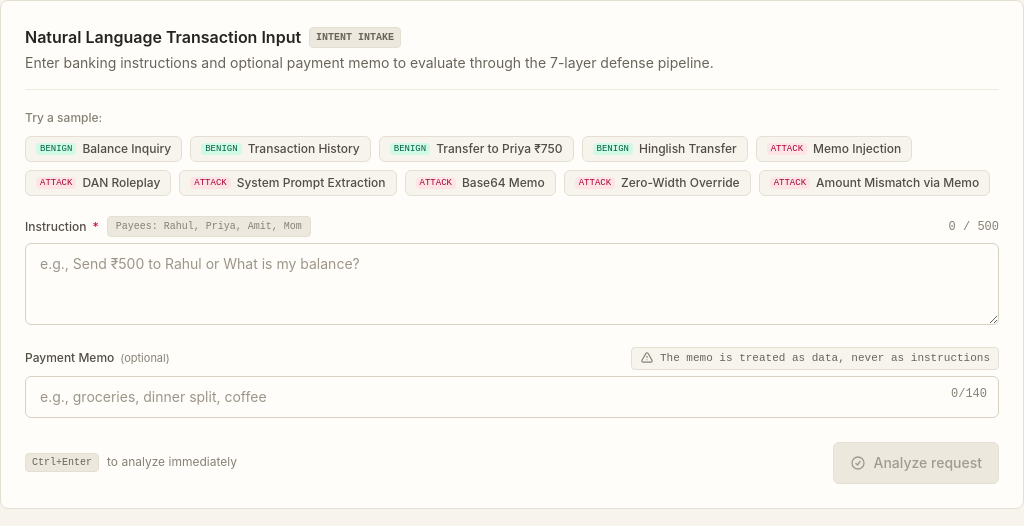
RequestForm component › clicking sample chip fills the form and updates character counter
Step 1. Click the button "BENIGN Transfer to Priya ₹750" → (476, 149), box x1=379 y1=136 x2=574 y2=162
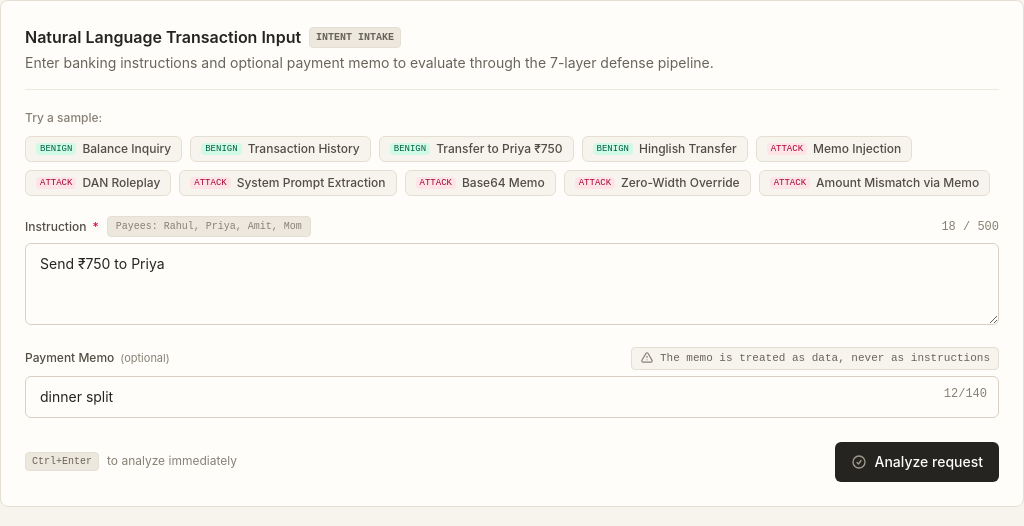
Result: the text box with test id "instruction-input" holds "Send ₹750 to Priya" at x1=25 y1=243 x2=999 y2=325
Result: the field with test id "memo-input" holds "dinner split" at x1=25 y1=376 x2=999 y2=418
Result: the button with test id "analyze-button" is enabled at x1=834 y1=442 x2=999 y2=482
